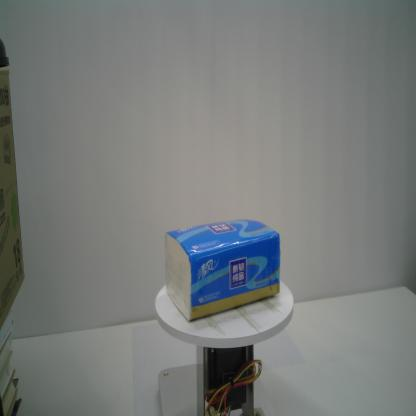Tissue: (162, 216, 282, 324)
